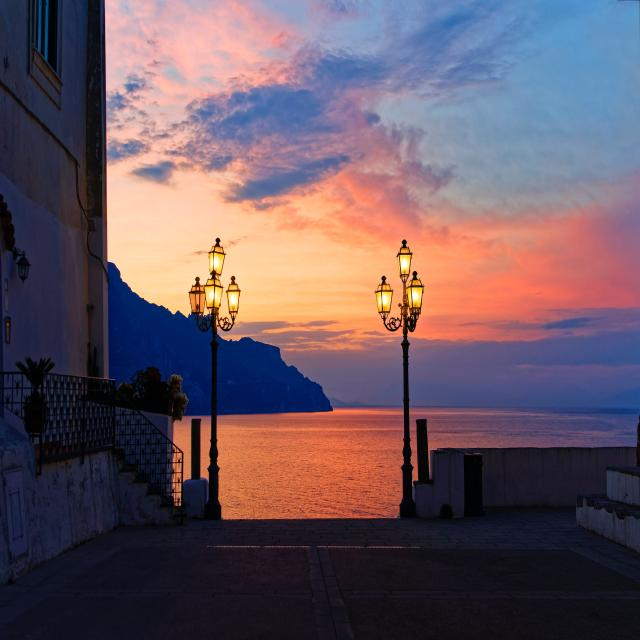Street Light: (377, 236, 424, 519), (190, 240, 238, 516)
